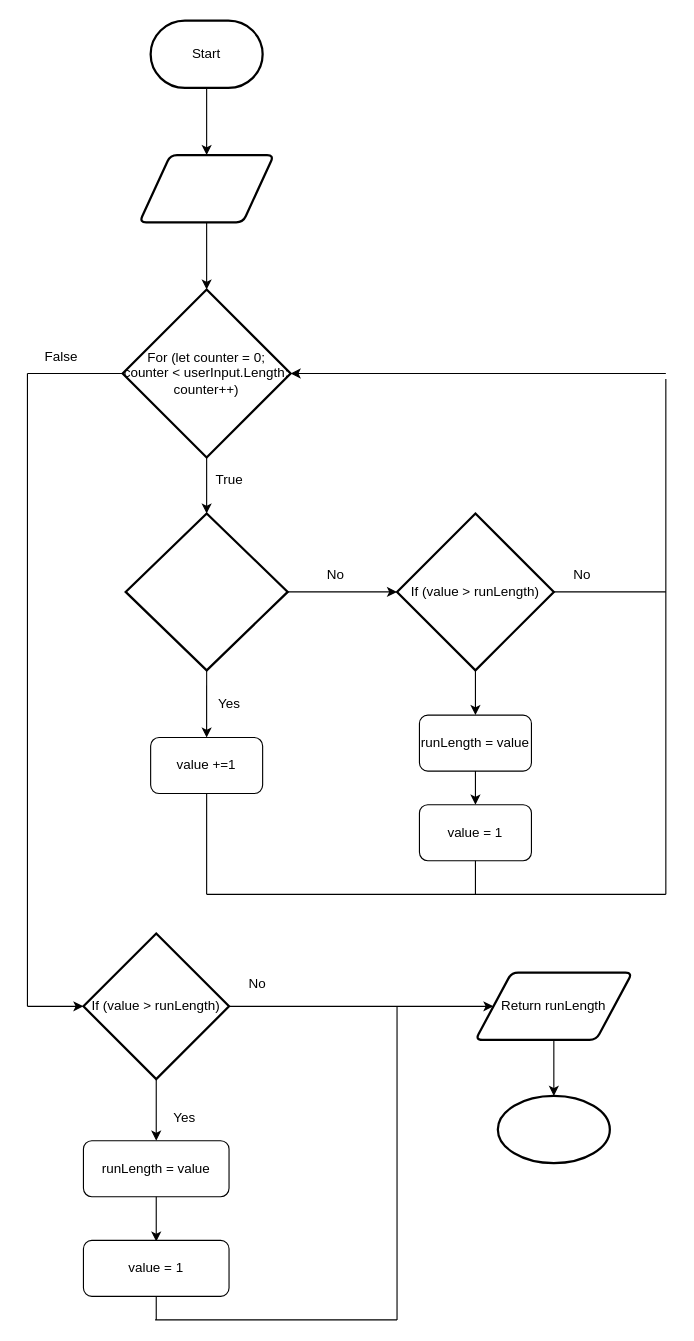
This 694x1341 diagram has some shape labels left out. Each missing label, with the centre of its shape:
"Get userInput" goes at (x=206, y=188).
"If (userInput.charAt(counter) === userInput.charAt (counter +1)" goes at (x=206, y=591).
"Stop" goes at (x=553, y=1129).
